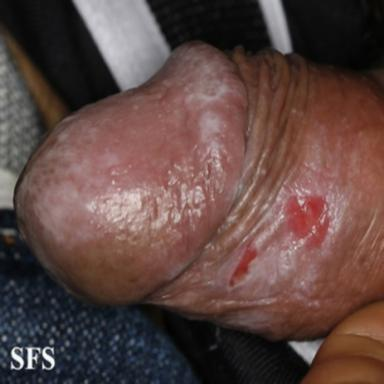lichen: (220, 125, 363, 308)
